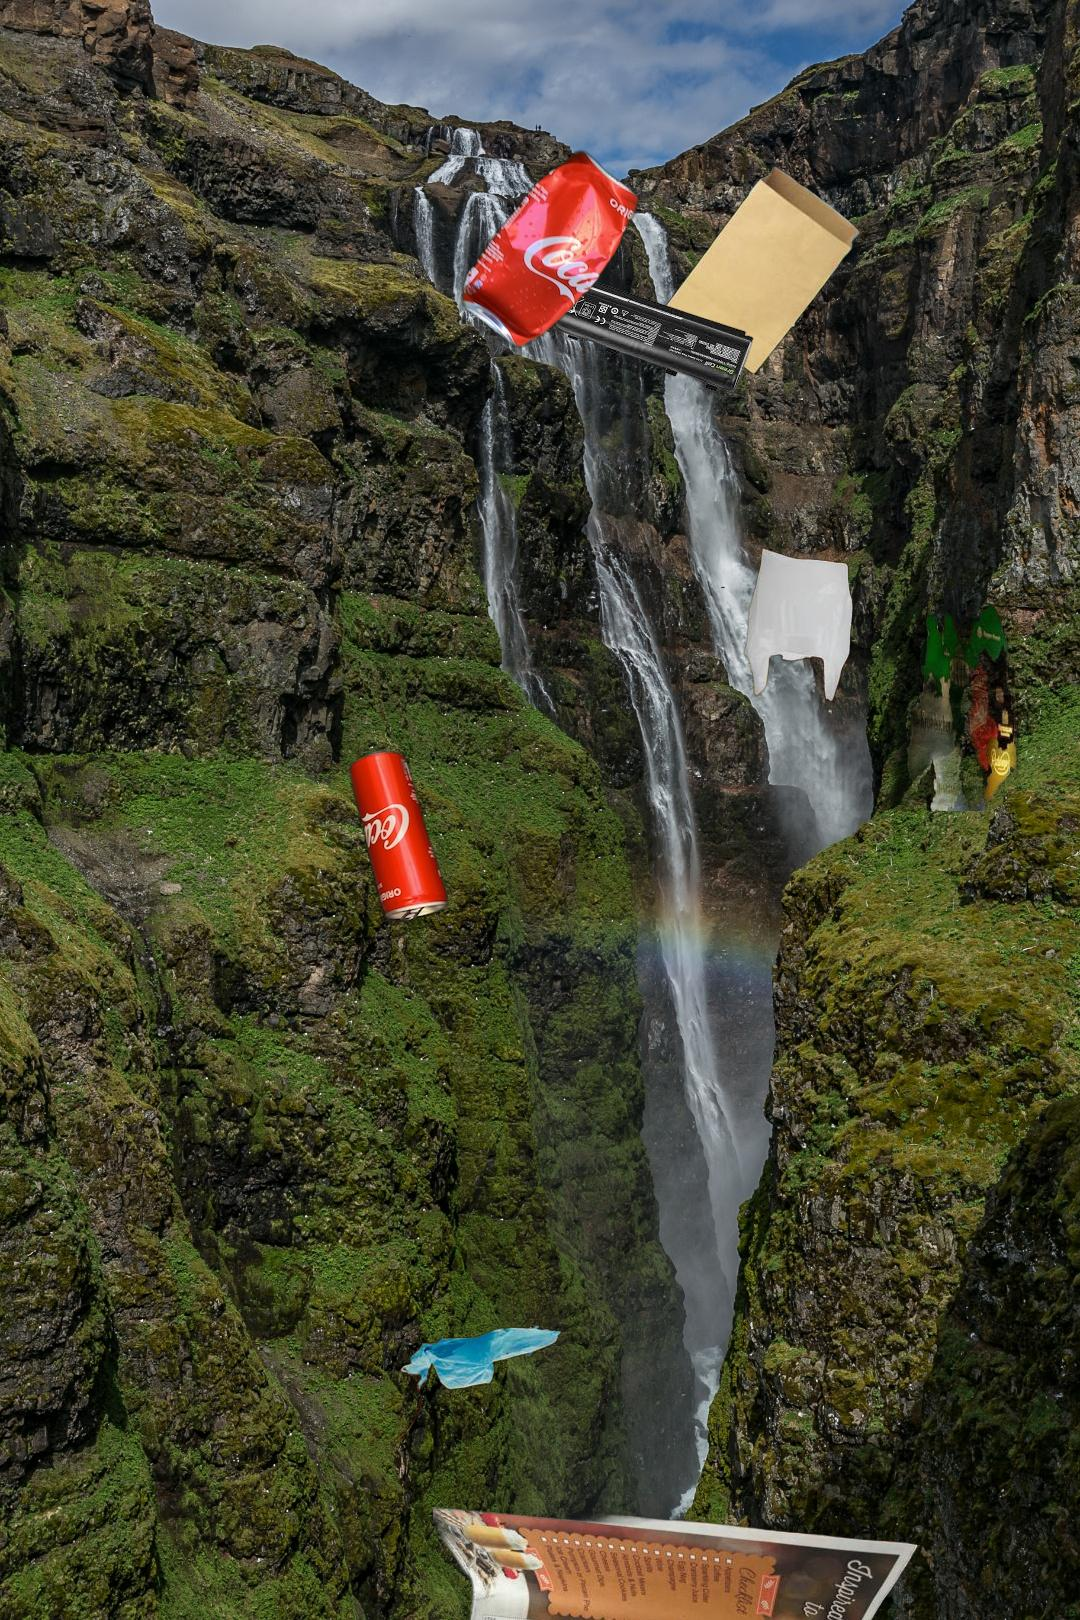battery: (548, 278, 756, 395)
metal-cans: (345, 354, 515, 928), (457, 145, 642, 352)
paper: (433, 1505, 923, 1620)
paper-bag: (664, 164, 864, 377)
plastic-bag: (350, 1144, 626, 1443), (722, 545, 1021, 811)
